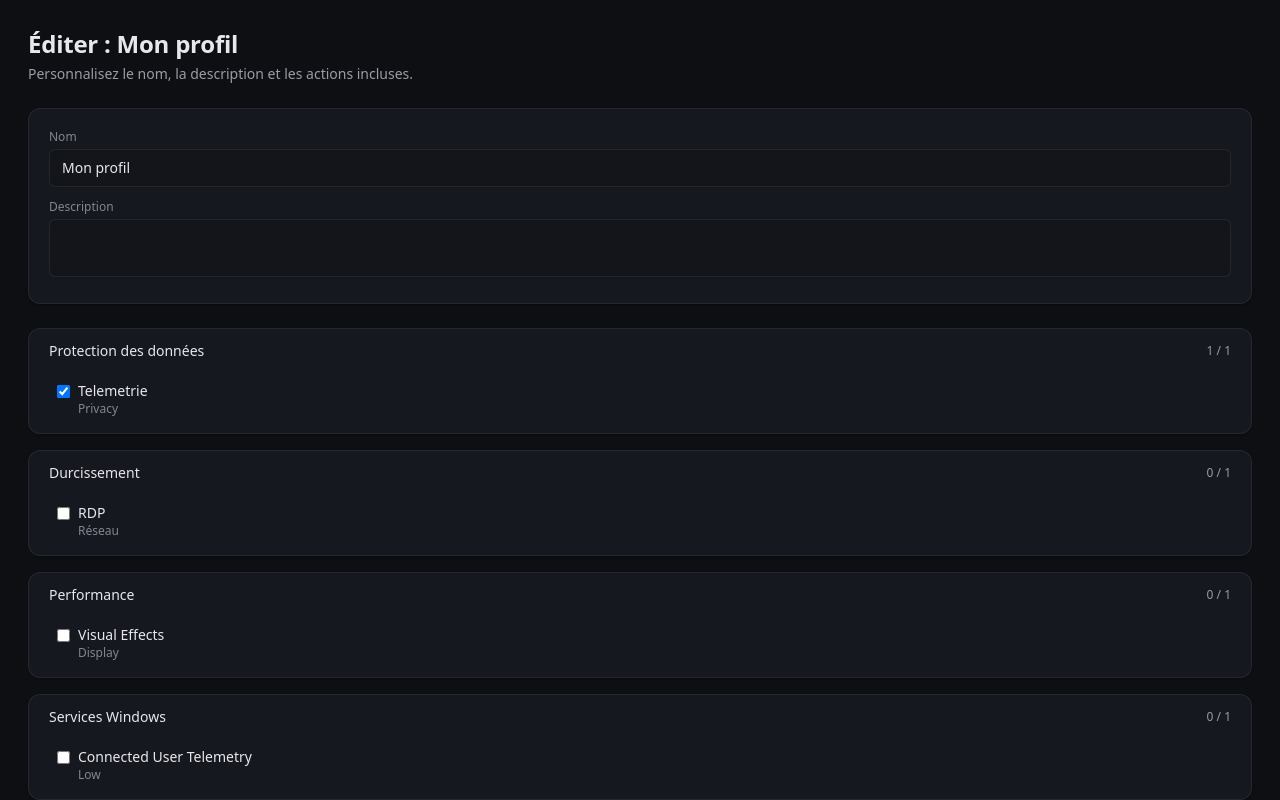
Test case: ProfileEditView › save button is disabled when name is empty
This screenshot has width=1280, height=800.
Clear the field labelled "Nom" at x=640, y=168, box [49,149,1231,187]
(page scrolled)
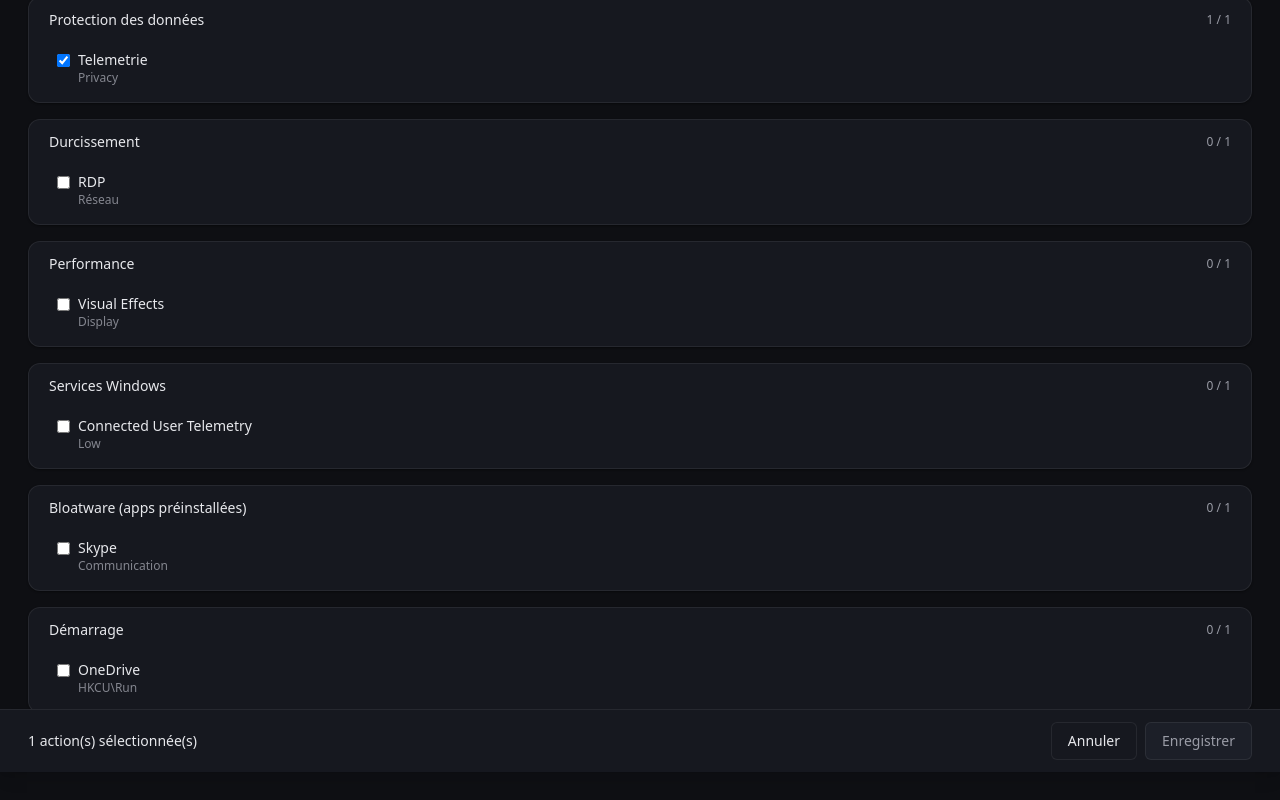
Expected: the button "Enregistrer" is disabled, [1145,722,1252,760]
